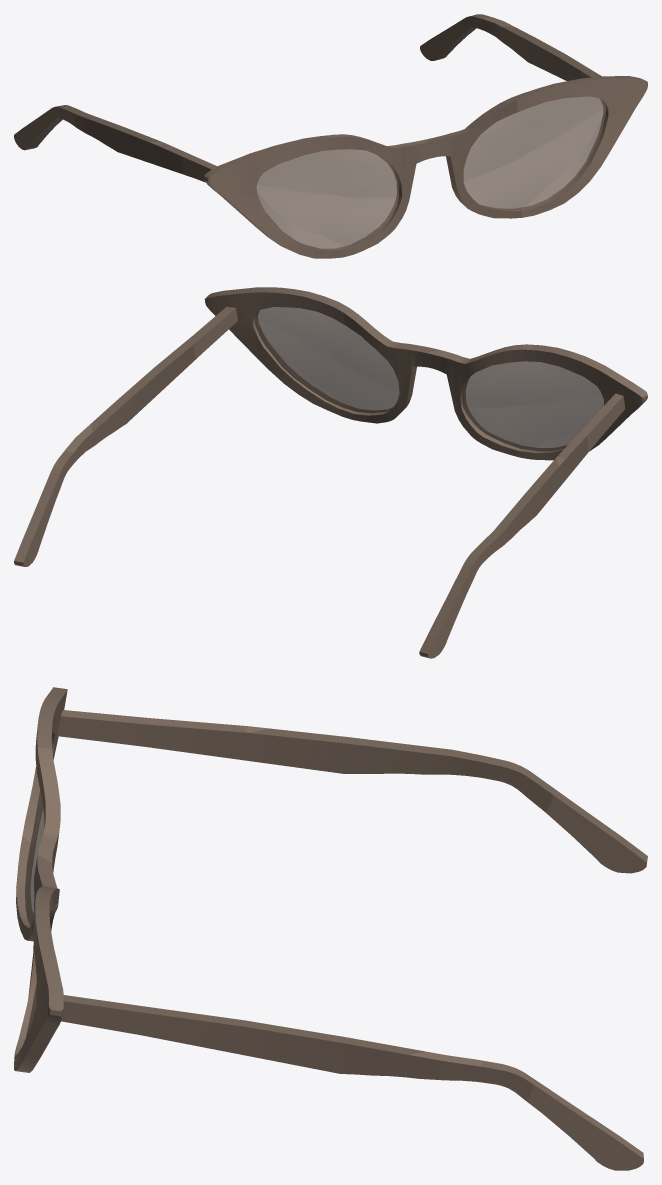
File: The Taupe Trend.glb
3 views of the same model, one above another, from view 1: azimuth 30°, elevation 25°; view 2: azimuth 150°, elevation 25°; view 3: azimuth 270°, elevation 25° (orthographic). The views are drawn at different scales.
Visible parts, largest first — view 1: Glass_1, Frame_0; view 2: Glass_1, Frame_0; view 3: Glass_1, Frame_0.
Part boxes in pixels (left/top/right/bottom): Glass_1: left=14, top=14, right=647, bottom=258; Frame_0: left=256, top=96, right=605, bottom=249; Glass_1: left=14, top=287, right=647, bottom=658; Frame_0: left=254, top=307, right=603, bottom=451; Glass_1: left=14, top=687, right=647, bottom=1170; Frame_0: left=24, top=791, right=44, bottom=1038.
Bounding box in the file's own units: 11.69 × 3.73 × 10.18.
Materials: 2 (2 with a texture image).
